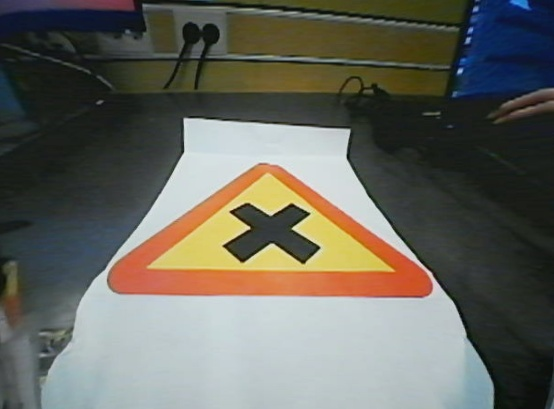junction: (107, 152, 452, 316)
